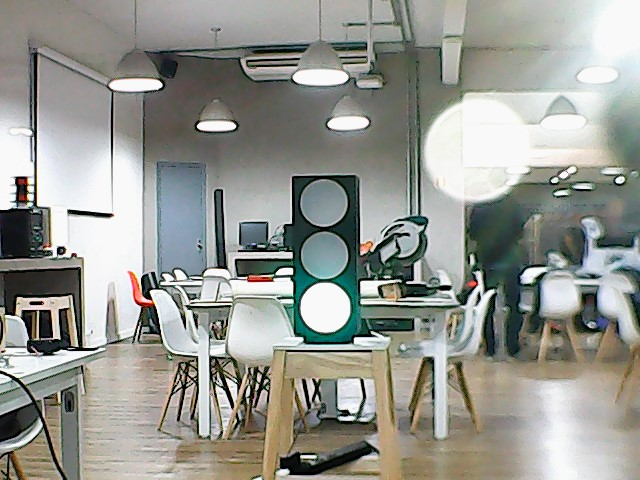verde: (287, 167, 366, 348)
